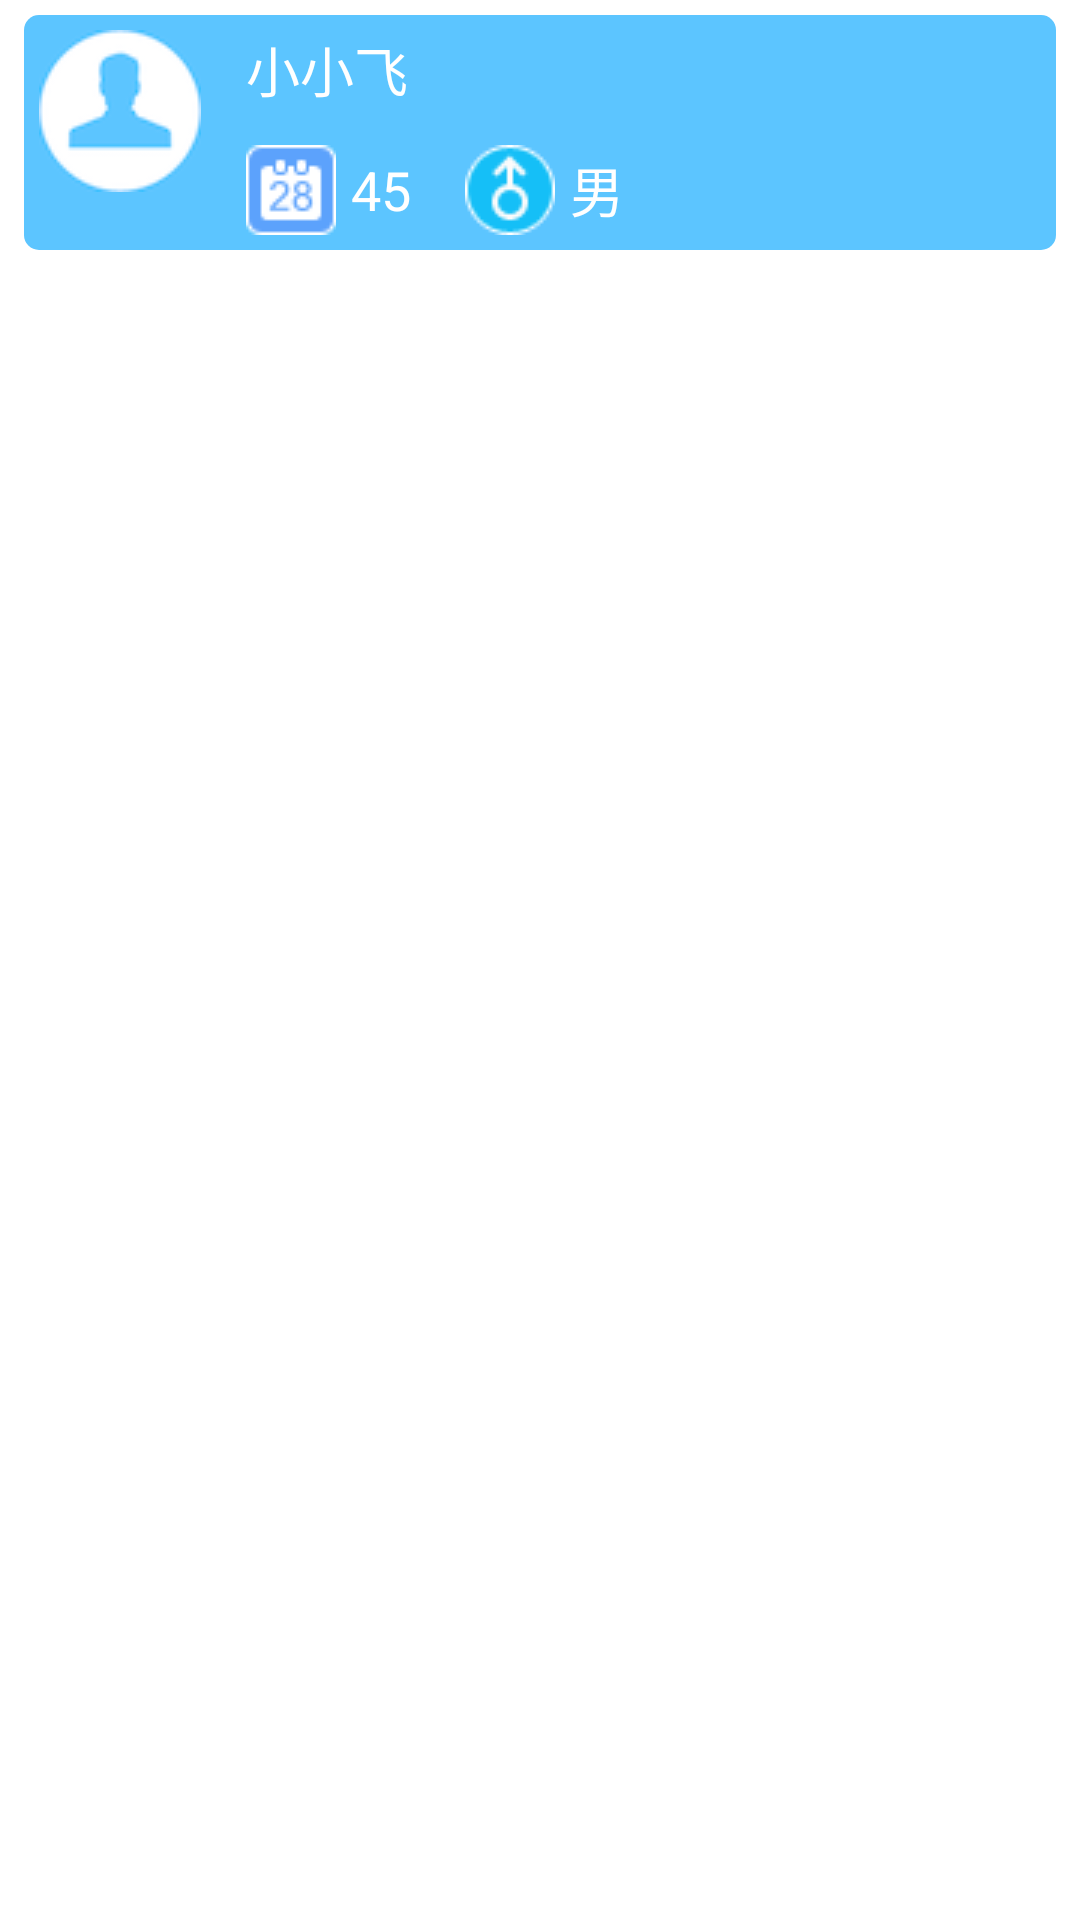

Locate icon controls on the screen. Image size 1080px x 1920px, boxes as (x1, y1, x2, y2).
age: (246, 145, 336, 235)
usericon: (39, 30, 201, 192)
